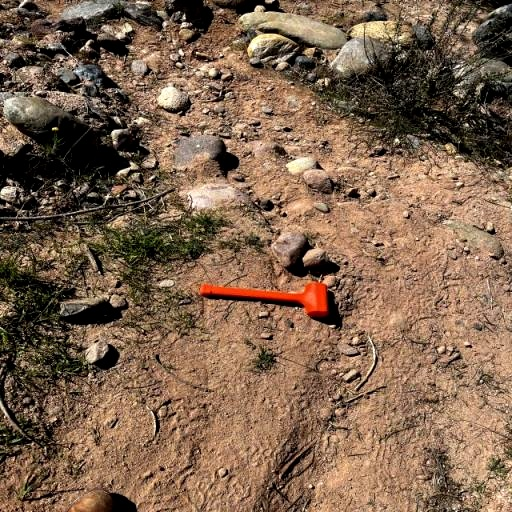mallet: (200, 280, 328, 318)
